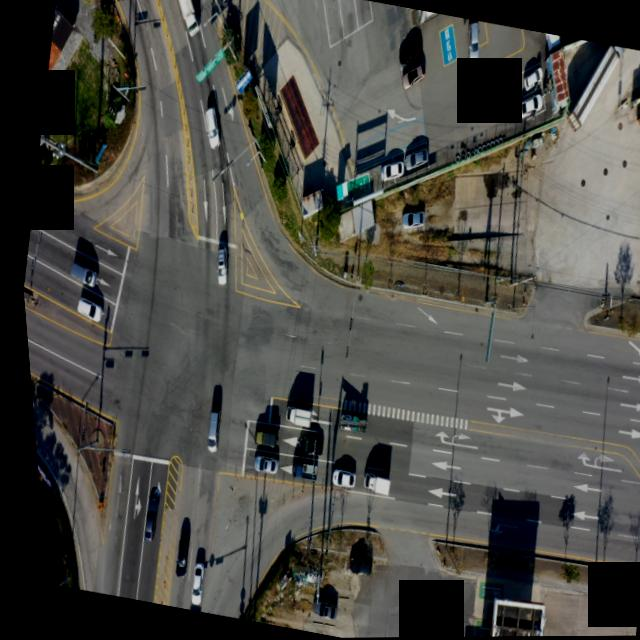car: (197, 105, 226, 152), (197, 400, 221, 454), (393, 33, 424, 73), (132, 492, 156, 541), (397, 61, 429, 97), (162, 537, 185, 581), (62, 258, 94, 287), (463, 24, 485, 66), (179, 562, 199, 606), (516, 91, 544, 122), (70, 295, 101, 322), (400, 144, 428, 172), (521, 63, 546, 93), (207, 246, 226, 285), (377, 159, 404, 185), (395, 208, 422, 232), (246, 429, 274, 451), (339, 556, 365, 578), (324, 469, 351, 490), (289, 436, 315, 457), (245, 455, 272, 475), (306, 603, 329, 622)
medium_truck: (564, 43, 629, 141), (165, 0, 212, 41)
small_truck: (278, 404, 308, 430), (355, 471, 385, 496), (332, 411, 362, 434), (282, 459, 310, 480)
